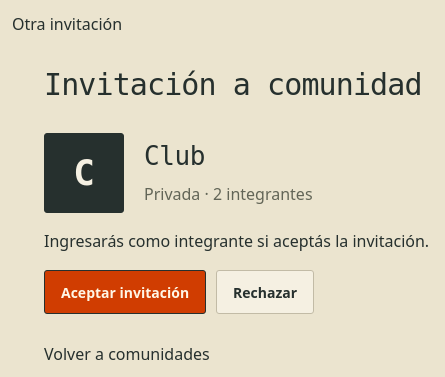
Test: si se pierde la respuesta HTTP, un evento autenticado de ingreso evita volver a aceptar
The width and height of the screenshot is (445, 377).
Click the button "Aceptar invitación": x=125, y=292 [44,270,206,314]
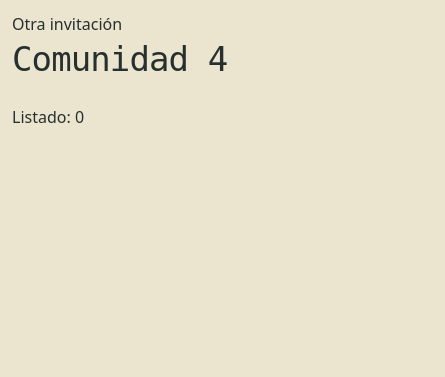
Now the heading "Comunidad 4" is shown, box [12,39,227,79]
